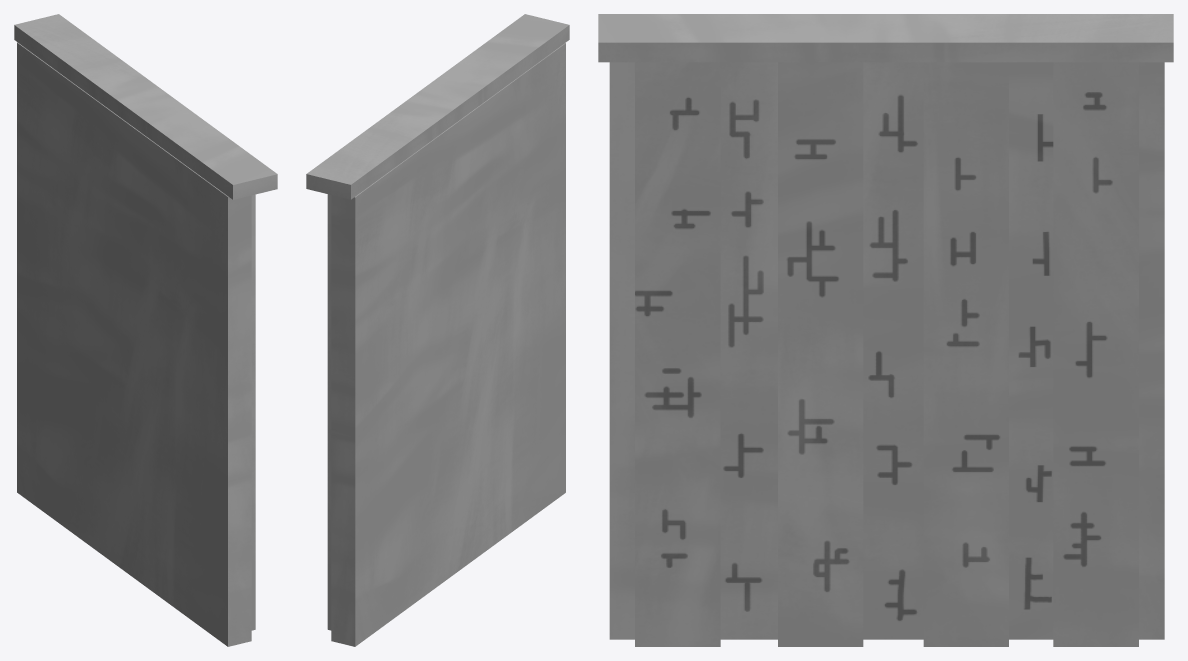
The model's file is Wall.fbx.
The picture shows the model from 3 angles, left to right: view 1: azimuth 30°, elevation 25°; view 2: azimuth 150°, elevation 25°; view 3: azimuth 270°, elevation 25°; orthographic projection. The views are drawn at different scales.
Parts seen in each view (by area): view 1: Cube.007; view 2: Cube.007; view 3: Cube.007.
Boxes of the visible parts, x1,y1,x2,y2 form: Cube.007: (14, 14, 277, 646); Cube.007: (306, 14, 569, 646); Cube.007: (598, 14, 1173, 646).
Bounding box in the file's own units: 399 × 3907 × 3334.
